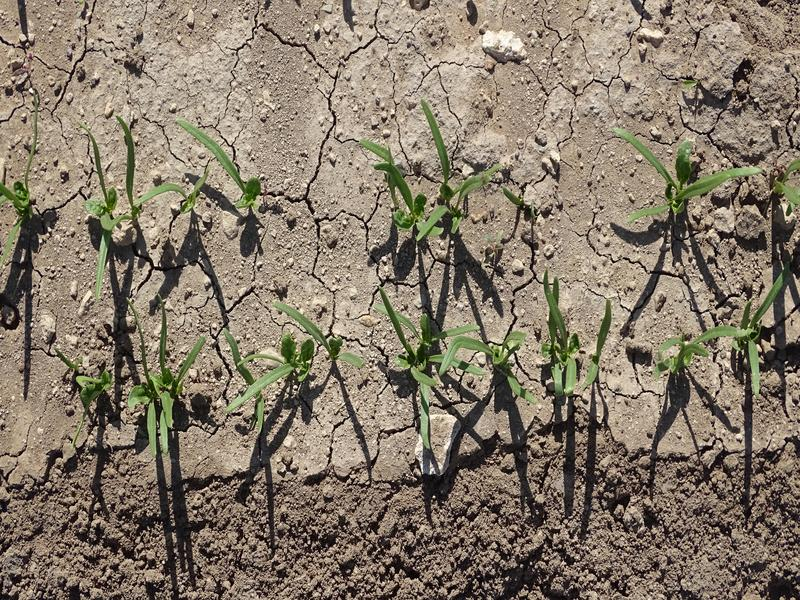Espinaca: (90, 116, 265, 296), (372, 291, 534, 417), (367, 103, 499, 242), (218, 306, 362, 427), (646, 268, 785, 391), (605, 113, 747, 228), (121, 305, 205, 447), (539, 272, 617, 394), (1, 170, 31, 282), (73, 365, 115, 408)
